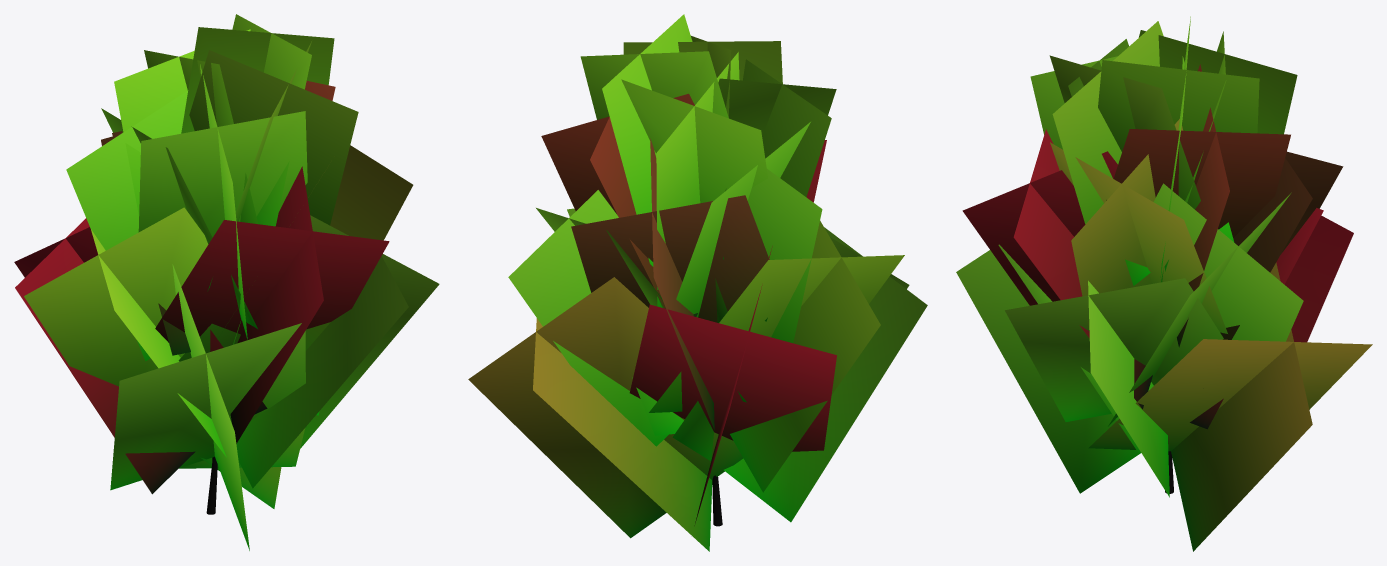
The model's file is Bush_5_1.fbx.
3 views of the same model, side by side, from view 1: azimuth 30°, elevation 25°; view 2: azimuth 150°, elevation 25°; view 3: azimuth 270°, elevation 25° (orthographic).
Visible parts, largest first — view 1: _11; view 2: _11; view 3: _11.
Boxes of the visible parts, left/top/right/bottom form: _11: left=14, top=14, right=439, bottom=550; _11: left=468, top=14, right=927, bottom=551; _11: left=956, top=16, right=1372, bottom=551.
Bounding box in the file's own units: 579 × 763 × 576.
